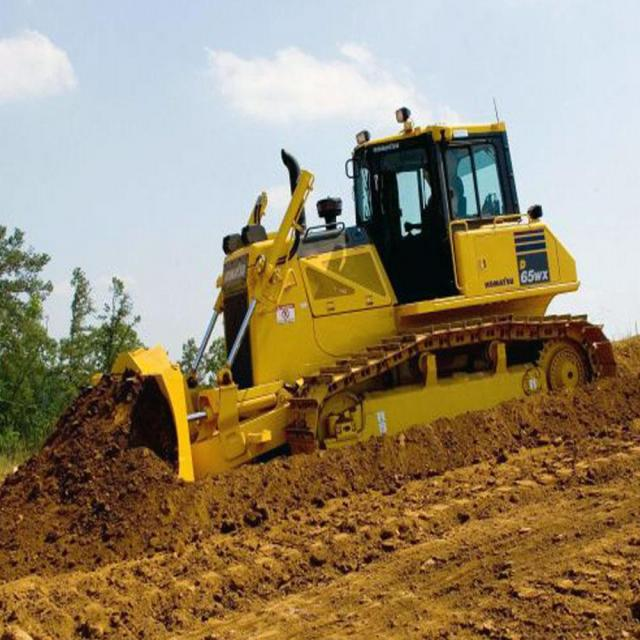Bulldozer: (90, 93, 624, 500)
